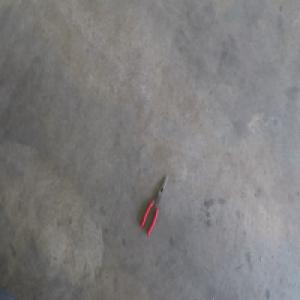Pliers: (140, 175, 168, 235)
